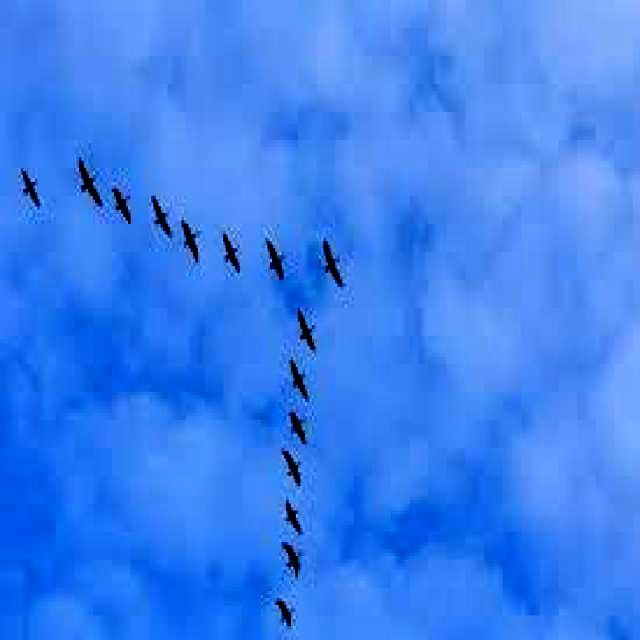bird: (72, 154, 107, 208), (10, 162, 44, 214), (146, 190, 178, 243), (284, 352, 317, 403), (291, 304, 322, 356), (322, 232, 348, 292), (220, 218, 241, 292), (177, 213, 205, 265), (278, 446, 310, 490), (110, 184, 140, 230), (281, 534, 309, 582), (288, 401, 312, 453), (268, 591, 306, 623), (264, 229, 286, 283), (280, 496, 308, 538)
